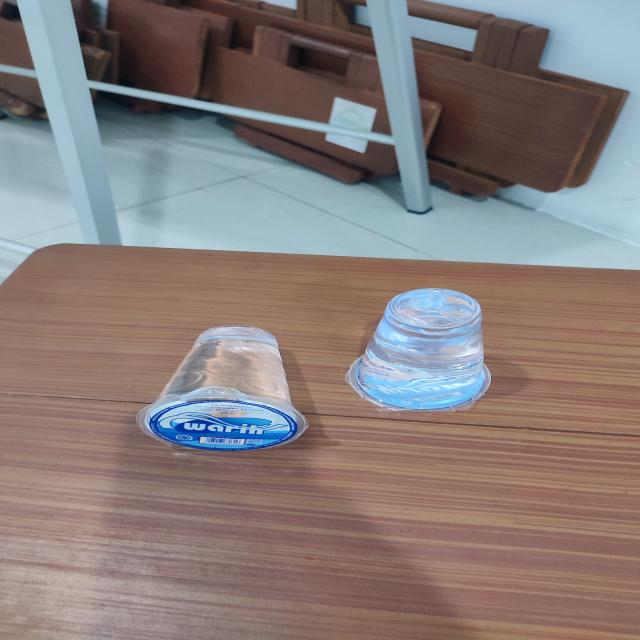air gelas: (133, 313, 326, 456), (345, 285, 502, 419)
